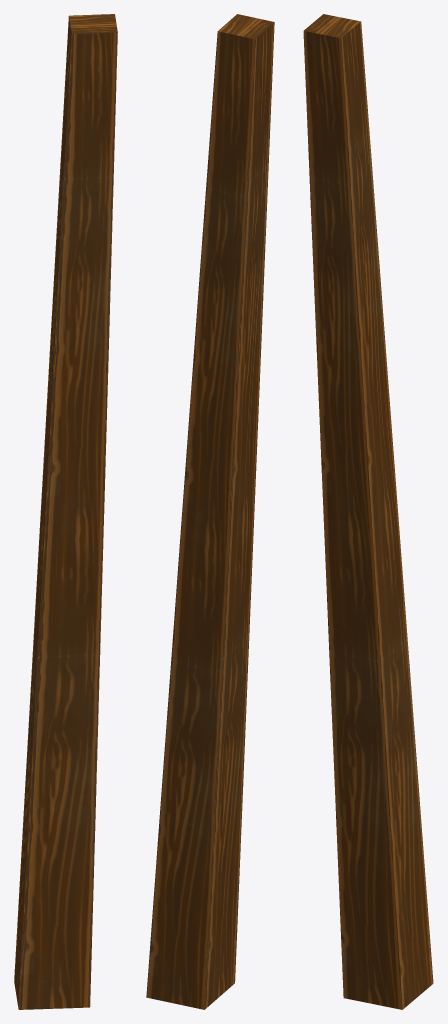
The picture shows the model from 3 angles, left to right: view 1: azimuth 90°, elevation 25°; view 2: azimuth 150°, elevation 25°; view 3: azimuth 330°, elevation 25°; orthographic projection. The views are drawn at different scales.
Parts seen in each view (by area): view 1: Cube.1505; view 2: Cube.1505; view 3: Cube.1505.
Boxes of the visible parts, bbox=[...] form: Cube.1505: bbox=[14, 14, 117, 1009]; Cube.1505: bbox=[146, 14, 274, 1009]; Cube.1505: bbox=[303, 14, 433, 1009].
Size of the model in its own units: 121 by 1311 by 125.
1 material, 1 textured.
